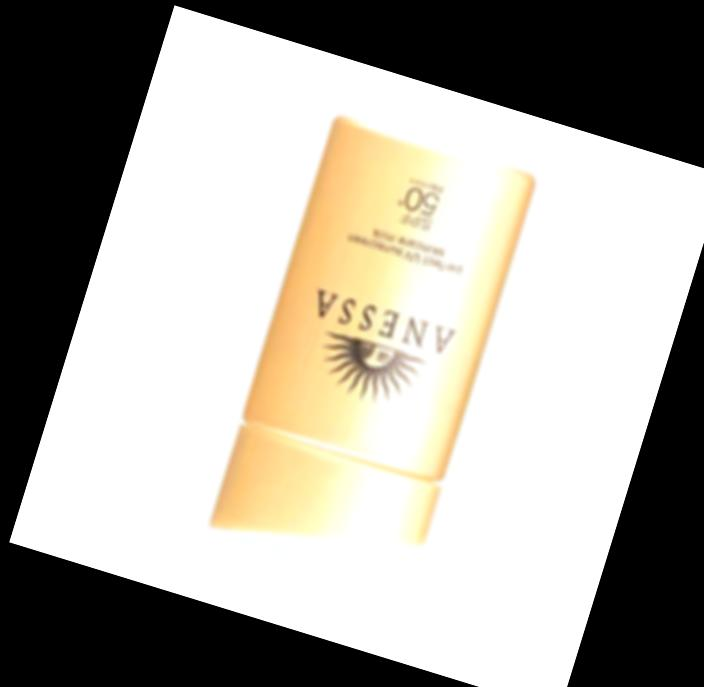cosmetic: (204, 117, 534, 593)
